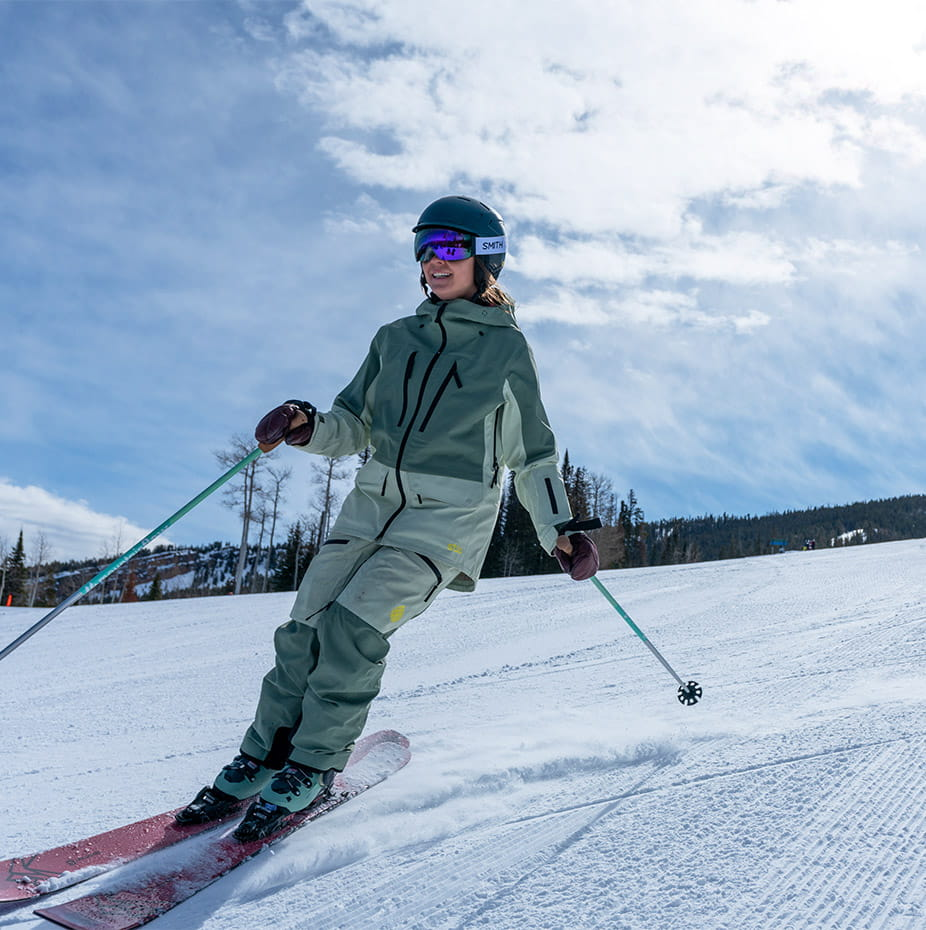skier: (0, 191, 706, 927)
